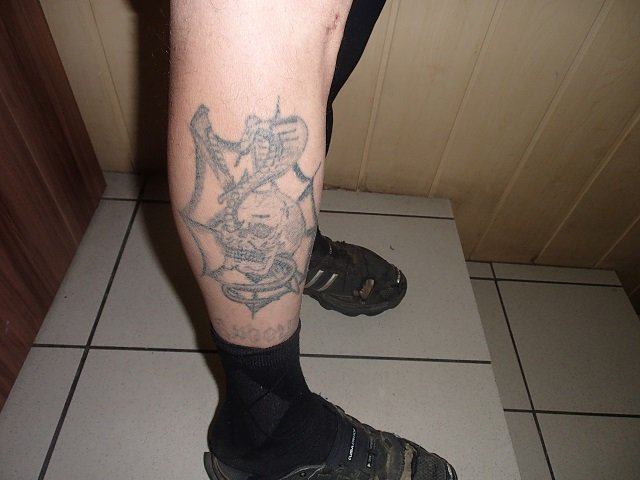tatu7_zmeya: (185, 104, 322, 305)
